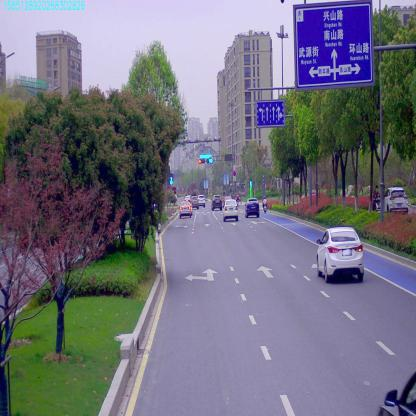traffic-light: (198, 154, 212, 158), (198, 158, 205, 164), (206, 159, 212, 162)
